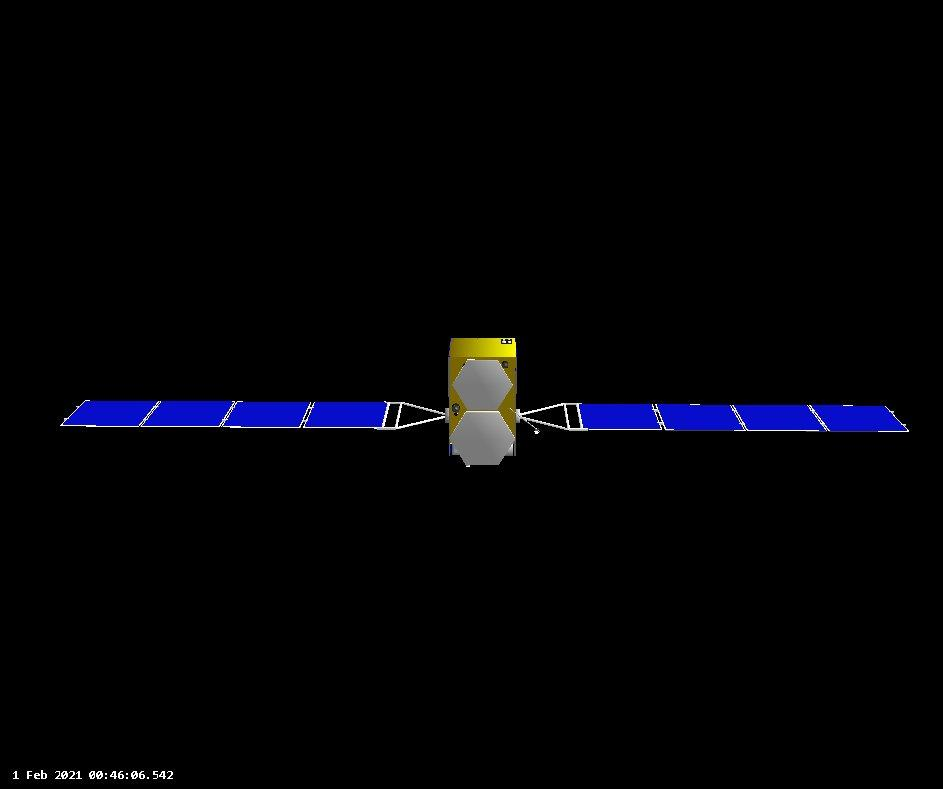antenna: (448, 410, 519, 468), (453, 355, 514, 410)
body: (442, 334, 521, 450)
solar: (518, 397, 913, 439), (55, 394, 449, 432)
